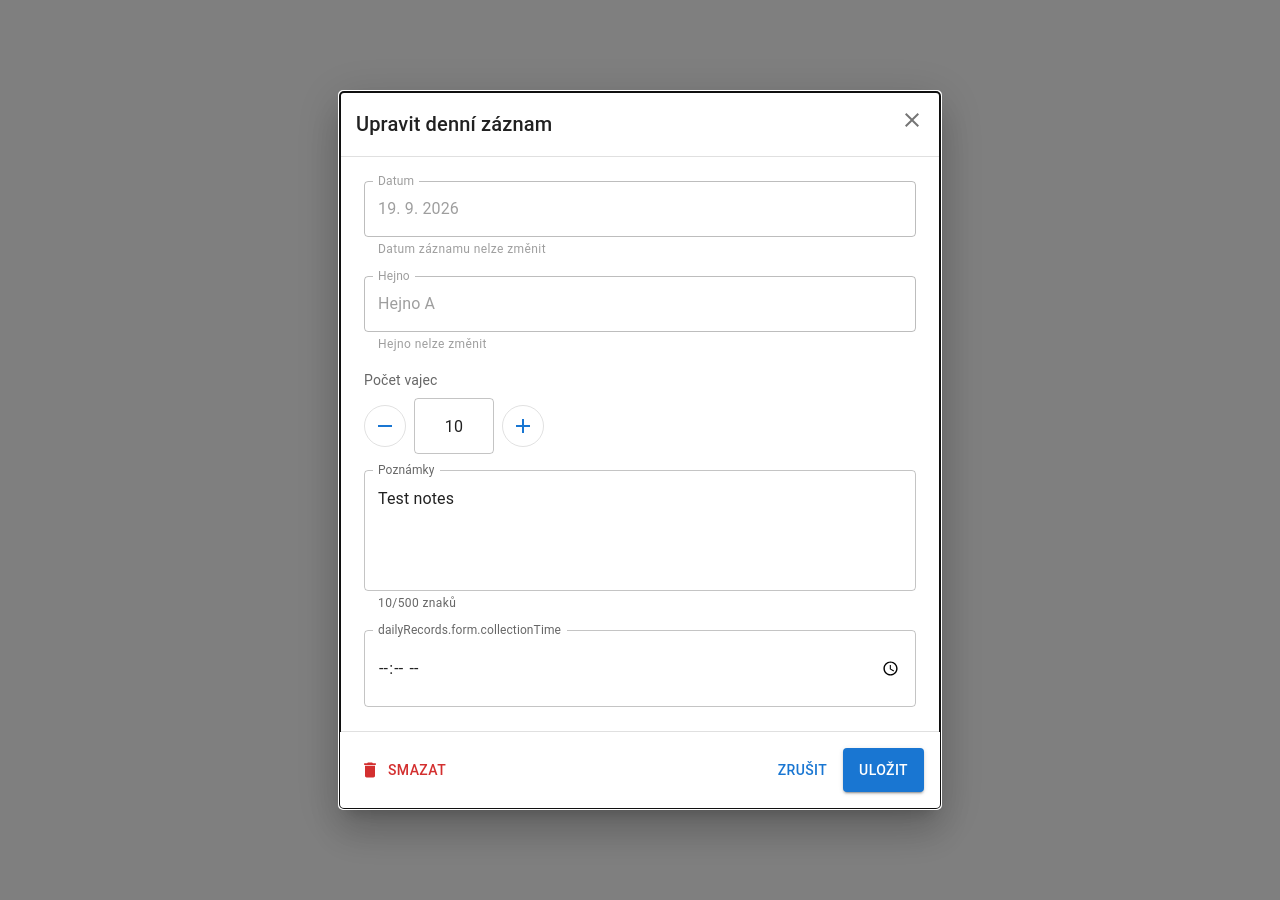
it: EditDailyRecordModal › displays character count for notes field
Type some text
Replace the text in the text box labelled "Poznámky" with "Test" at (640, 531), box [378,487,902,575]
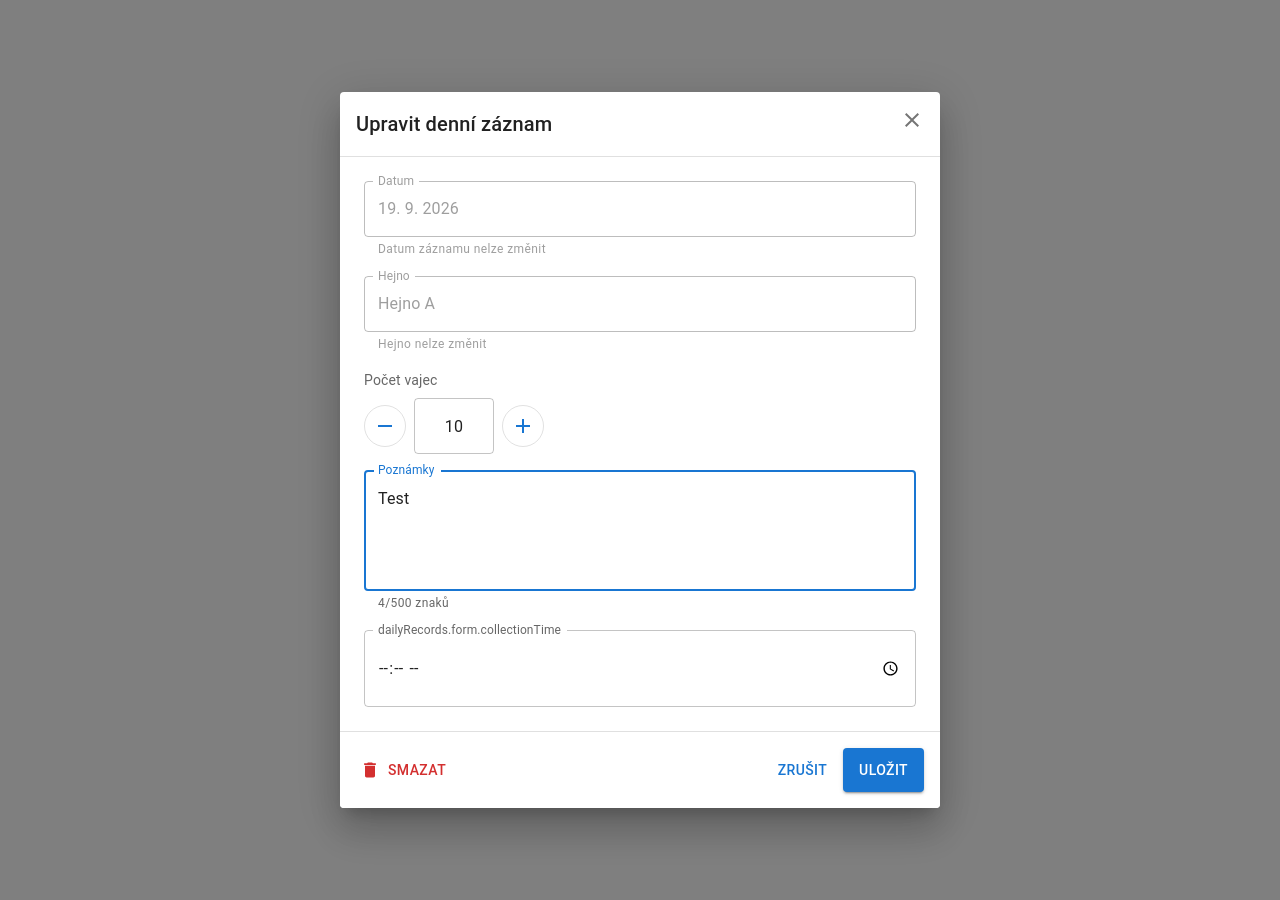
Check: the text "4/500 znaků" is shown, box [378,596,449,610]
